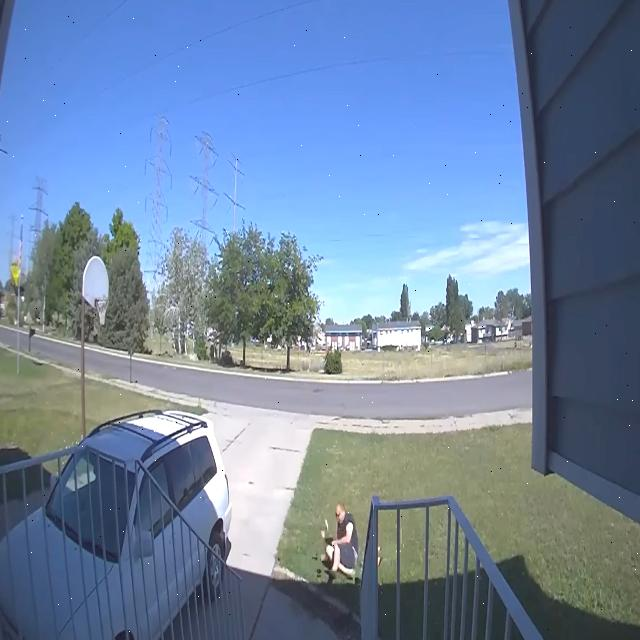fallen: (326, 504, 359, 577)
